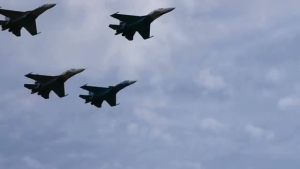flight: (108, 5, 176, 40), (22, 67, 88, 100), (1, 2, 57, 37), (78, 79, 137, 109)
